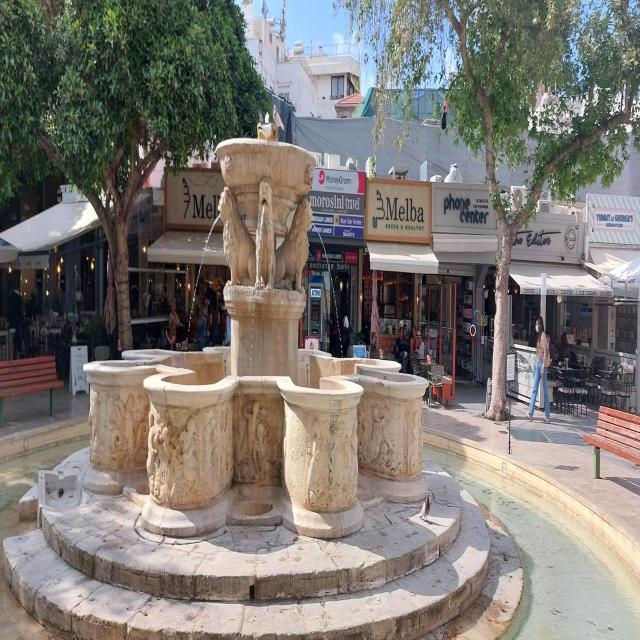Liontaria: (89, 115, 431, 539)
